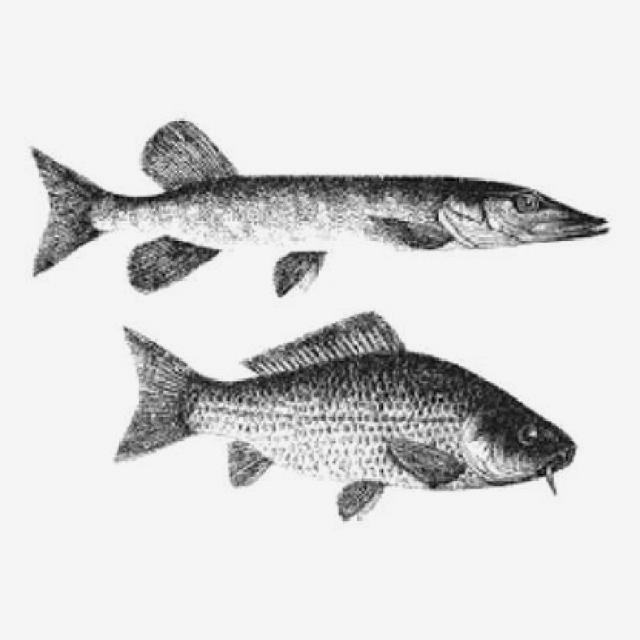ikan-mas: (113, 320, 576, 502)
